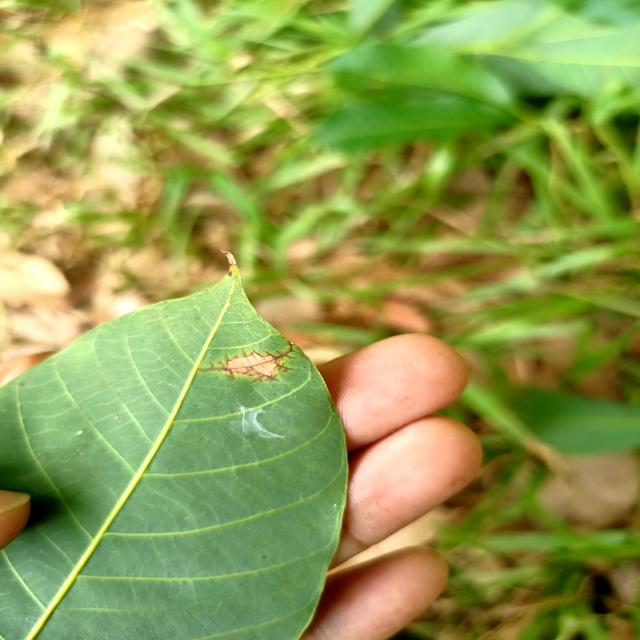Corynespora: (196, 343, 299, 383)
